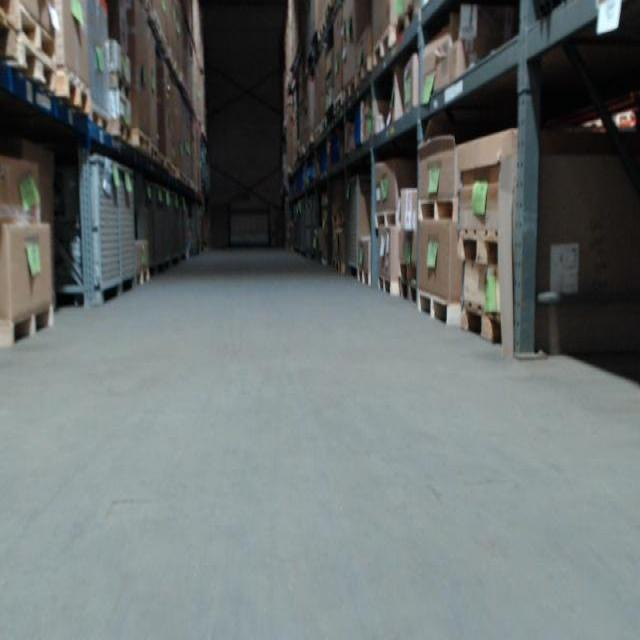pallet: (8, 33, 59, 94), (2, 300, 54, 349), (17, 0, 58, 59), (459, 300, 503, 341), (415, 290, 460, 328), (54, 68, 89, 116), (457, 228, 501, 266), (416, 197, 457, 223), (394, 0, 419, 38), (373, 26, 394, 66), (90, 107, 111, 133), (133, 129, 151, 159), (356, 55, 372, 88), (376, 208, 399, 228), (378, 275, 399, 296), (115, 122, 133, 145), (400, 280, 418, 301), (344, 77, 356, 101), (133, 270, 150, 284), (359, 269, 373, 285)
stillage: (48, 150, 117, 310), (74, 2, 114, 131), (337, 174, 377, 277), (117, 158, 137, 295), (130, 178, 155, 278), (291, 196, 318, 260), (150, 183, 166, 277), (174, 191, 184, 274), (182, 189, 190, 271), (166, 188, 173, 269)
